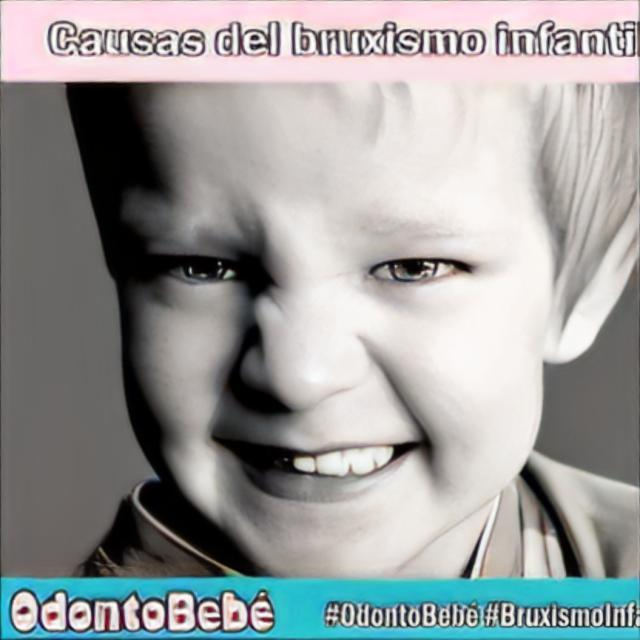anger: (113, 82, 552, 572)
